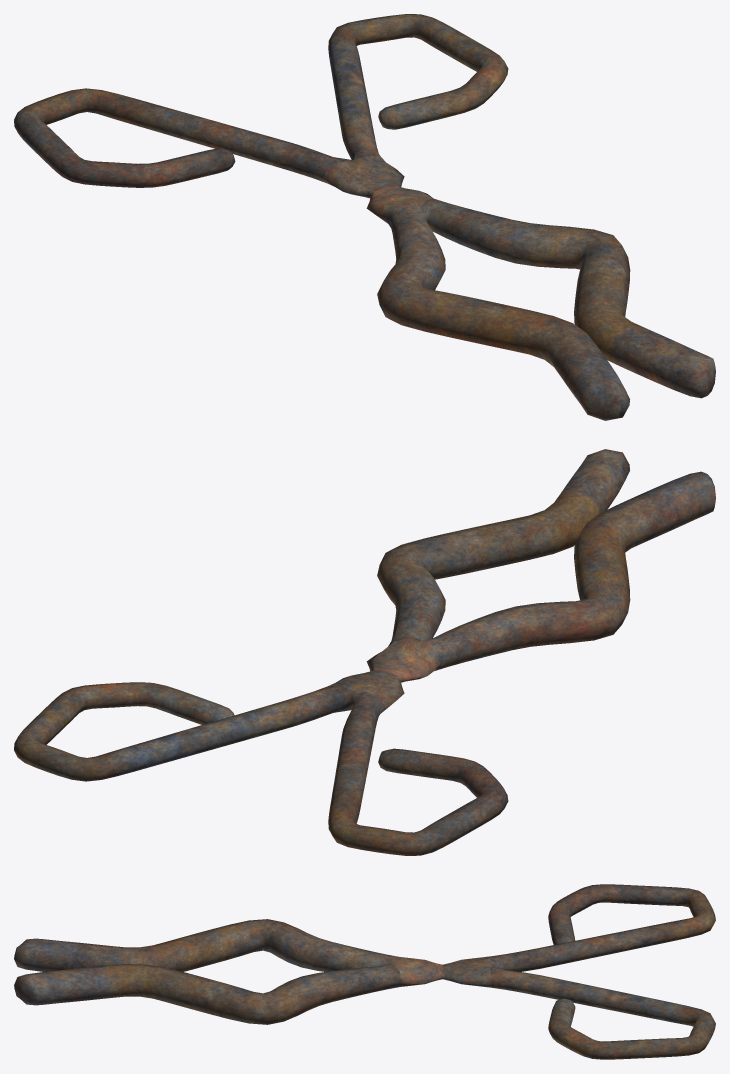
File: Tongs.fbx
3 views of the same model, one above another, from view 1: azimuth 30°, elevation 25°; view 2: azimuth 150°, elevation 25°; view 3: azimuth 270°, elevation 25° (orthographic). The views are drawn at different scales.
Visible parts, largest first — view 1: Tongs; view 2: Tongs; view 3: Tongs.
Boxes of the visible parts, bbox=[...] form: Tongs: bbox=[14, 14, 715, 420]; Tongs: bbox=[14, 449, 715, 855]; Tongs: bbox=[14, 884, 715, 1059].
Size of the model in its own units: 1.05 by 0.0819 by 1.86.
Materials: 1 (1 with a texture image).
